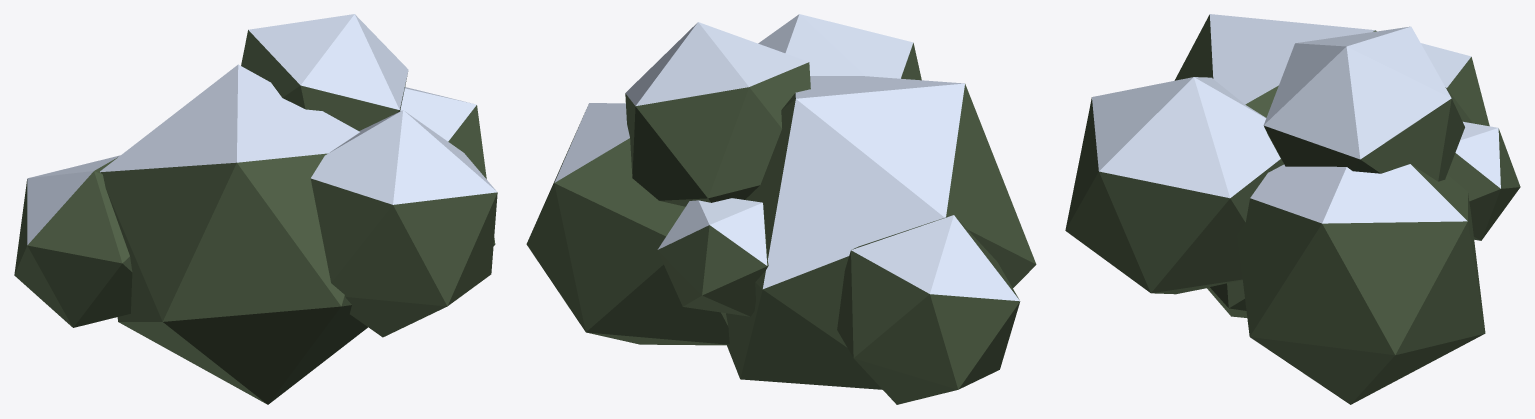
File: rock_snow_3.fbx
3 views of the same model, side by side, from view 1: azimuth 30°, elevation 25°; view 2: azimuth 150°, elevation 25°; view 3: azimuth 270°, elevation 25° (orthographic). The views are drawn at different scales.
Parts seen in each view (by area): view 1: BUSH.001, BUSH.006, BUSH.005, BUSH.008, BUSH.007; view 2: BUSH.001, BUSH.007, BUSH.005, BUSH.008, BUSH.009, BUSH.006; view 3: BUSH.007, BUSH.006, BUSH.008, BUSH.001, BUSH.009, BUSH.005.
Boxes of the visible parts, x1,y1,x2,y2 form: BUSH.001: [100, 64, 367, 404]; BUSH.006: [310, 110, 497, 337]; BUSH.005: [14, 155, 132, 327]; BUSH.008: [241, 14, 408, 130]; BUSH.007: [400, 87, 495, 245]; BUSH.001: [726, 76, 1036, 389]; BUSH.007: [526, 103, 729, 345]; BUSH.005: [837, 215, 1020, 404]; BUSH.008: [625, 22, 810, 206]; BUSH.009: [657, 198, 768, 316]; BUSH.006: [758, 14, 921, 80]; BUSH.007: [1237, 164, 1485, 404]; BUSH.006: [1065, 77, 1283, 294]; BUSH.008: [1263, 26, 1464, 181]; BUSH.001: [1174, 14, 1376, 317]; BUSH.009: [1447, 121, 1520, 240]; BUSH.005: [1421, 43, 1489, 126].
Bounding box in the file's own units: 7.03 × 4.79 × 5.74.
